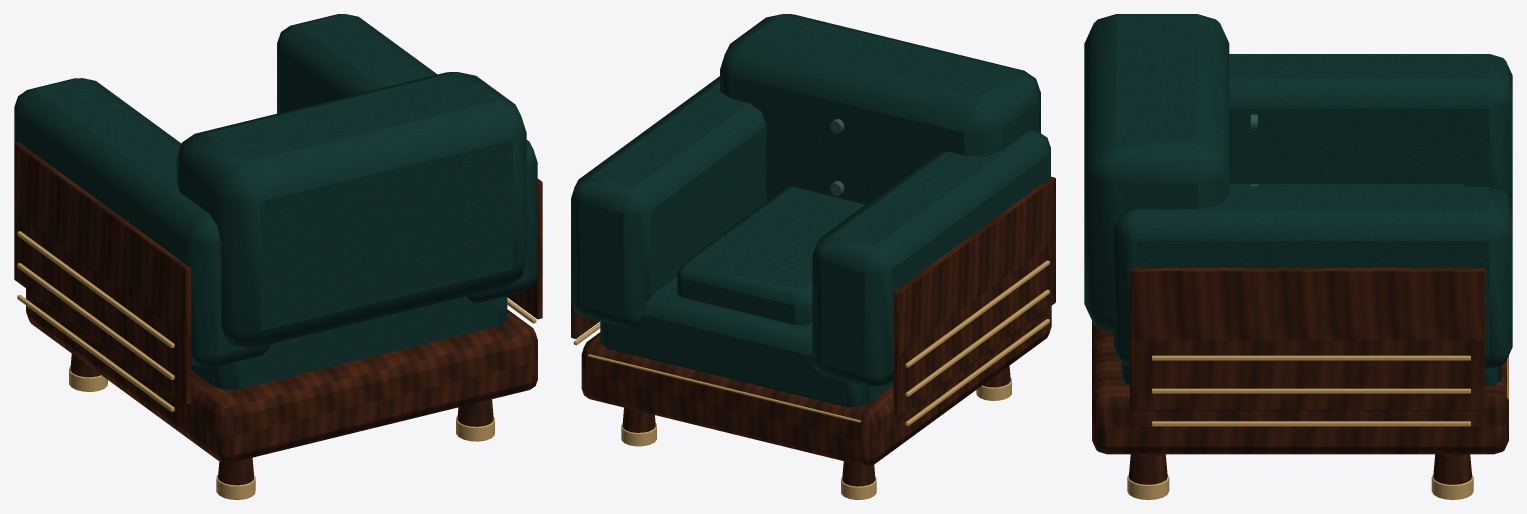
The model's file is hotel-armchair.glb.
The picture shows the model from 3 angles, left to right: view 1: azimuth 30°, elevation 25°; view 2: azimuth 150°, elevation 25°; view 3: azimuth 270°, elevation 25°; orthographic projection. The views are drawn at different scales.
Visible parts, largest first — view 1: Static | Petrol velvet | original woven texture.004, Static | Walnut | original longitudinal grain.004, Static | Aged champagne brass.004; view 2: Static | Petrol velvet | original woven texture.004, Static | Walnut | original longitudinal grain.004, Static | Aged champagne brass.004; view 3: Static | Petrol velvet | original woven texture.004, Static | Walnut | original longitudinal grain.004, Static | Aged champagne brass.004.
Part boxes in pixels (x1,y1,x2,y2): Static | Petrol velvet | original woven texture.004: [14, 14, 537, 389]; Static | Walnut | original longitudinal grain.004: [14, 142, 542, 485]; Static | Aged champagne brass.004: [17, 231, 536, 499]; Static | Petrol velvet | original woven texture.004: [571, 14, 1050, 407]; Static | Walnut | original longitudinal grain.004: [571, 176, 1055, 486]; Static | Aged champagne brass.004: [573, 260, 1049, 499]; Static | Petrol velvet | original woven texture.004: [1084, 14, 1512, 385]; Static | Walnut | original longitudinal grain.004: [1092, 267, 1508, 484]; Static | Aged champagne brass.004: [1127, 355, 1508, 499].
Size of the model in its own units: 1.2 by 1.08 by 1.18.
Materials: 4 (2 with a texture image).
